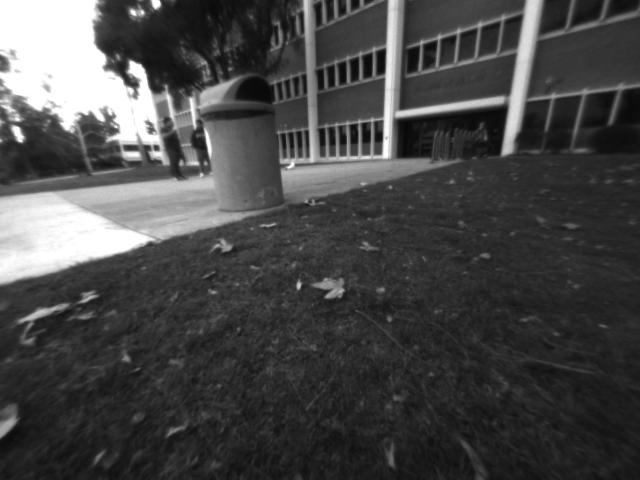trashcan: (187, 67, 297, 222)
